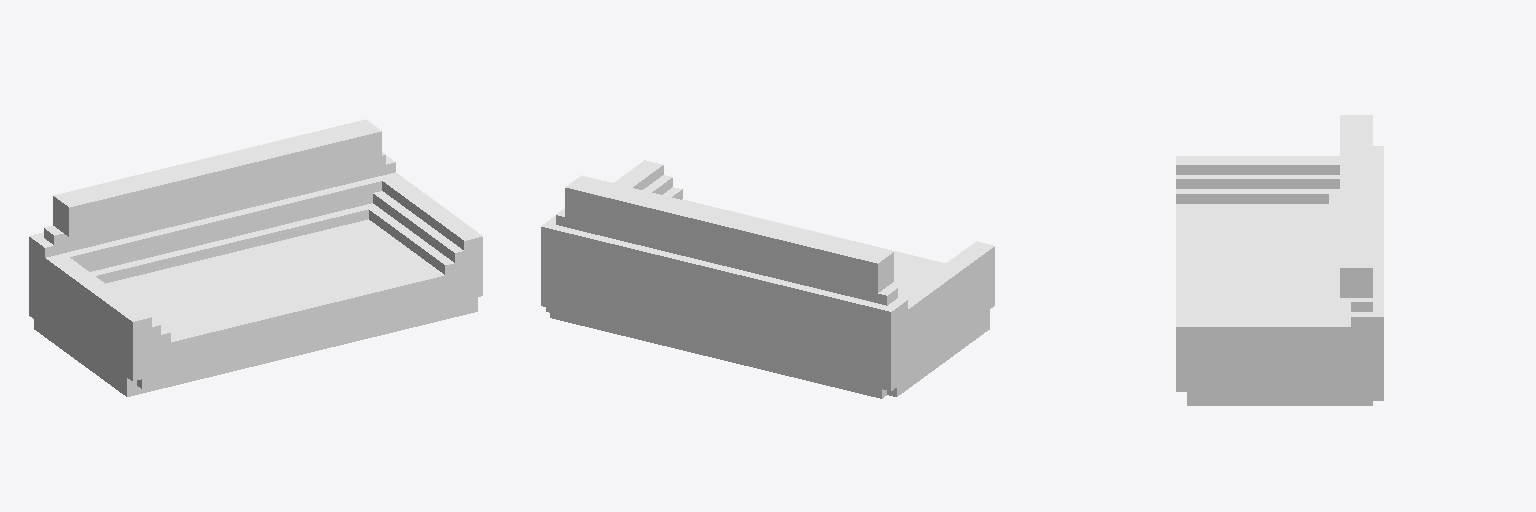
The model's file is sofa.obj.
3 views of the same model, side by side, from view 1: azimuth 30°, elevation 25°; view 2: azimuth 150°, elevation 25°; view 3: azimuth 270°, elevation 25° (orthographic).
Parts seen in each view (by area): view 1: object 1; view 2: object 1; view 3: object 1.
Part boxes in pixels (bbox=[...]): object 1: bbox=[29, 119, 482, 396]; object 1: bbox=[541, 160, 994, 398]; object 1: bbox=[1176, 115, 1383, 405].
Bounding box in the file's own units: 3.7 × 1.3 × 1.9.